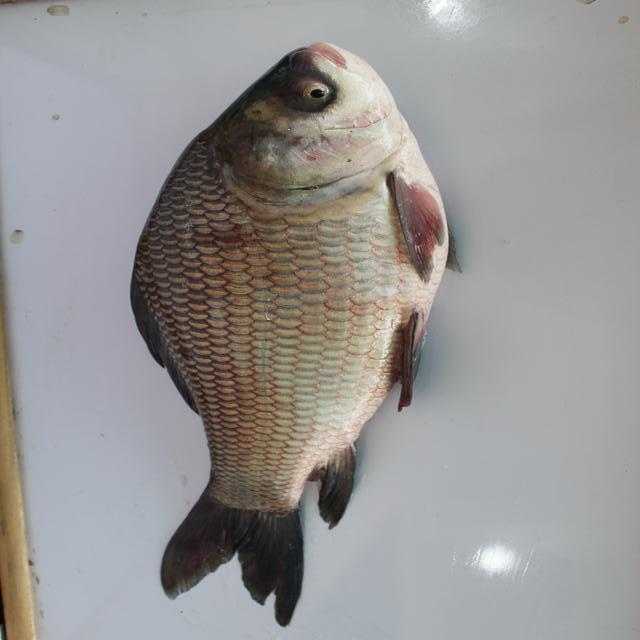Catla: (130, 24, 462, 630)
